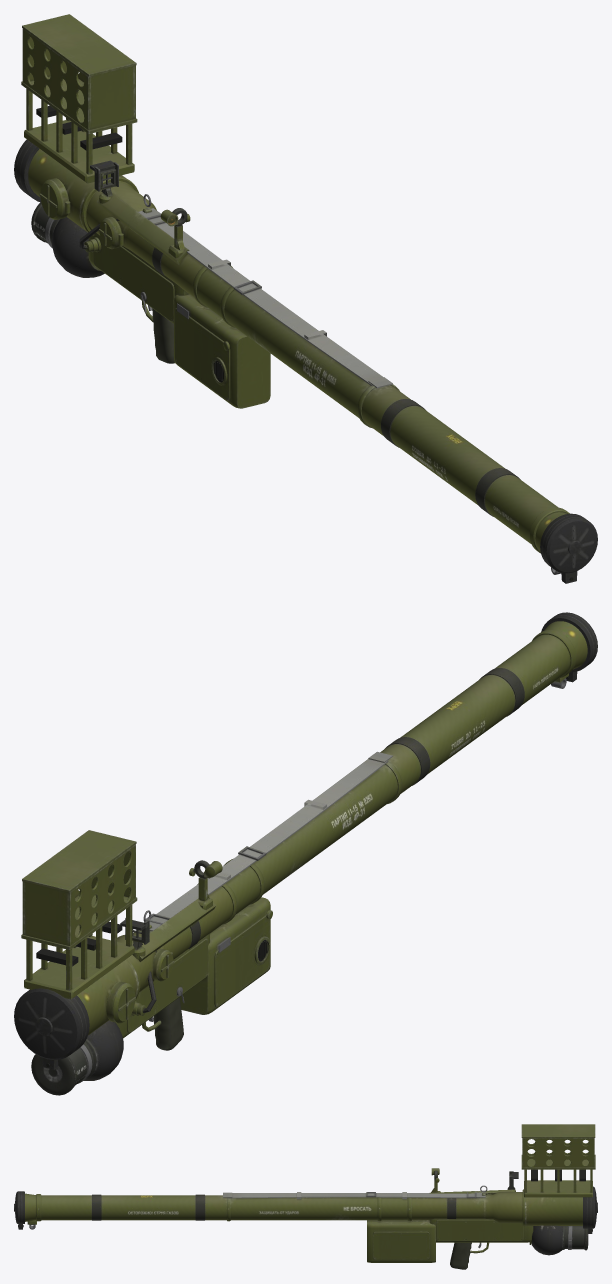
File: mp_verba.glb
3 views of the same model, one above another, from view 1: azimuth 30°, elevation 25°; view 2: azimuth 150°, elevation 25°; view 3: azimuth 270°, elevation 25° (orthographic). The views are drawn at different scales.
Visible parts, largest first — view 1: tube, blk_ant, grip, strap, sight, cap_r, nip, cap_f; view 2: tube, blk_ant, grip, cap_f, strap, nip, sight, cap_r; view 3: tube, grip, blk_ant, nip, strap, cap_f, cap_r, sight.
Part boxes in pixels (x1=…): tube: x1=28, y1=149, x2=569, y2=574; blk_ant: x1=21, y1=14, x2=137, y2=183; grip: x1=79, y1=219, x2=270, y2=408; strap: x1=138, y1=208, x2=392, y2=388; sight: x1=39, y1=160, x2=190, y2=258; cap_r: x1=540, y1=513, x2=597, y2=583; nip: x1=31, y1=202, x2=104, y2=277; cap_f: x1=14, y1=139, x2=41, y2=202; tube: x1=77, y1=621, x2=587, y2=1035; blk_ant: x1=21, y1=830, x2=137, y2=999; grip: x1=116, y1=897, x2=272, y2=1050; cap_f: x1=14, y1=988, x2=89, y2=1069; strap: x1=145, y1=751, x2=392, y2=931; nip: x1=31, y1=1020, x2=123, y2=1095; sight: x1=106, y1=860, x2=222, y2=1023; cap_r: x1=541, y1=612, x2=597, y2=682; tube: x1=25, y1=1185, x2=582, y2=1229; grip: x1=367, y1=1193, x2=533, y2=1269; blk_ant: x1=521, y1=1124, x2=595, y2=1197; nip: x1=529, y1=1225, x2=588, y2=1255; strap: x1=223, y1=1192, x2=485, y2=1199; cap_f: x1=583, y1=1186, x2=597, y2=1233; cap_r: x1=14, y1=1191, x2=24, y2=1229; sight: x1=431, y1=1168, x2=518, y2=1192.
Size of the model in its own units: 0.1476 by 0.4839 by 1.86.
1 material, 1 textured.
